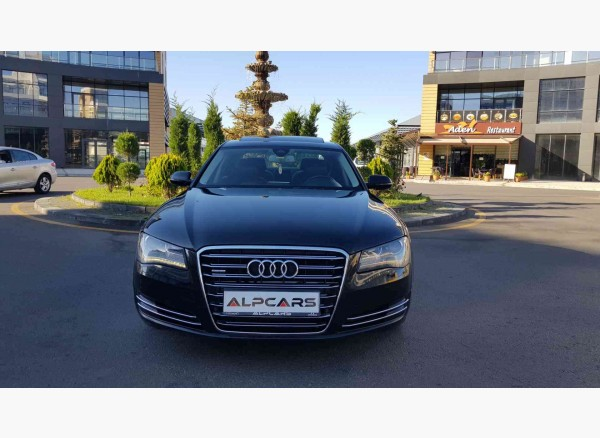audi: (243, 253, 304, 283)
